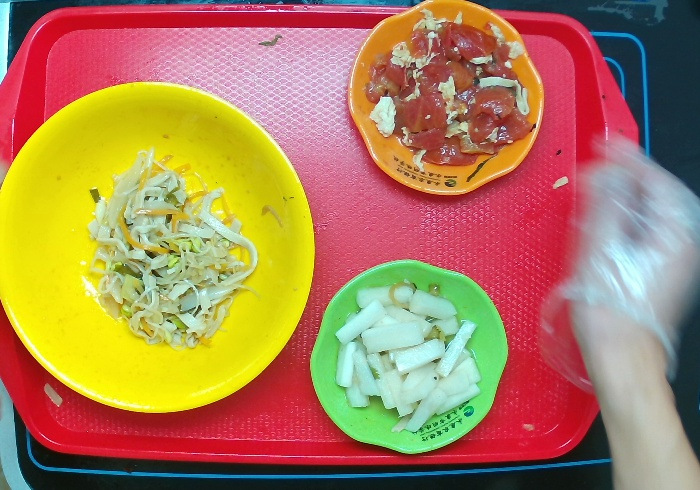YKMZ-Huang_Se_Tang_Wan: (1, 82, 315, 409)
YKMZ-Ju_Se_Ao_Bian_Wan: (344, 3, 547, 198)
YKMZ-Lv_Se_Ao_Bian_Wan: (306, 260, 509, 457)
